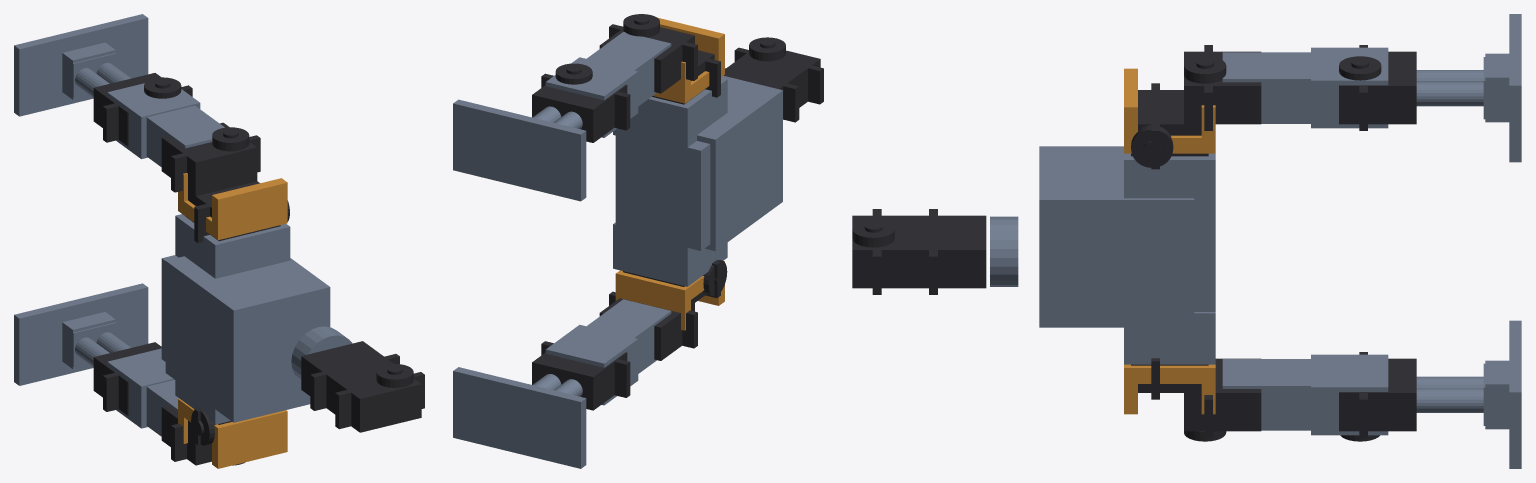
Rendered from cyberduck_v2_skeleton.obj.
3 renders of one model, left to right at view 1: azimuth 30°, elevation 25°; view 2: azimuth 150°, elevation 25°; view 3: azimuth 270°, elevation 25°, orthographic. The views are drawn at different scales.
Parts seen in each view (by area): view 1: torso_chassis, foot_chassis_right, foot_chassis_left, servo_head_pitch, servo_left_hip_pitch, thigh_skeleton_left, hip_gimbal_bracket_left, hip_gimbal_bracket_right, thigh_skeleton_right, servo_head_yaw, servo_left_knee_pitch, shin_skeleton_left (+5 smaller); view 2: torso_chassis, foot_chassis_left, foot_chassis_right, thigh_skeleton_right, thigh_skeleton_left, servo_left_knee_pitch, servo_head_pitch, servo_right_knee_pitch, servo_left_hip_pitch, hip_gimbal_bracket_right, hip_gimbal_bracket_left, servo_right_hip_pitch (+5 smaller); view 3: torso_chassis, thigh_skeleton_right, thigh_skeleton_left, servo_head_yaw, servo_head_pitch, servo_left_knee_pitch, servo_left_hip_pitch, servo_right_knee_pitch, servo_left_hip_roll, servo_right_hip_pitch, foot_chassis_right, shin_skeleton_left (+5 smaller).
Part boxes in pixels (x1,y1,x2,y2): torso_chassis: (161, 214, 352, 424); foot_chassis_right: (14, 283, 148, 385); foot_chassis_left: (14, 14, 148, 116); servo_head_pitch: (326, 364, 424, 432); servo_left_hip_pitch: (161, 122, 260, 195); thigh_skeleton_left: (107, 83, 224, 166); hip_gimbal_bracket_left: (178, 173, 287, 240); hip_gimbal_bracket_right: (178, 398, 287, 468); thigh_skeleton_right: (107, 348, 178, 436); servo_head_yaw: (301, 341, 399, 413); servo_left_knee_pitch: (93, 73, 192, 146); shin_skeleton_left: (62, 53, 131, 97); torso_chassis: (613, 75, 782, 286); foot_chassis_left: (453, 99, 586, 201); foot_chassis_right: (453, 367, 586, 468); thigh_skeleton_right: (545, 299, 671, 405); thigh_skeleton_left: (545, 32, 671, 137); servo_left_knee_pitch: (532, 63, 630, 142); servo_head_pitch: (726, 37, 823, 107); servo_right_knee_pitch: (532, 341, 630, 410); servo_left_hip_pitch: (599, 14, 697, 93); hip_gimbal_bracket_right: (615, 261, 724, 330); hip_gimbal_bracket_left: (653, 18, 724, 103); servo_right_hip_pitch: (599, 291, 697, 360); torso_chassis: (990, 146, 1215, 364); thigh_skeleton_right: (1222, 354, 1388, 435); thigh_skeleton_left: (1222, 47, 1388, 128); servo_head_yaw: (909, 209, 986, 294); servo_head_pitch: (852, 209, 929, 294); servo_left_knee_pitch: (1339, 45, 1416, 130); servo_left_hip_pitch: (1184, 45, 1261, 130); servo_right_knee_pitch: (1339, 352, 1416, 441); servo_left_hip_roll: (1131, 83, 1208, 169); servo_right_hip_pitch: (1184, 358, 1261, 441); foot_chassis_right: (1485, 320, 1521, 468); shin_skeleton_left: (1416, 57, 1509, 119).
Bounding box in the file's own units: 0.048 × 0.12 × 0.1898.
